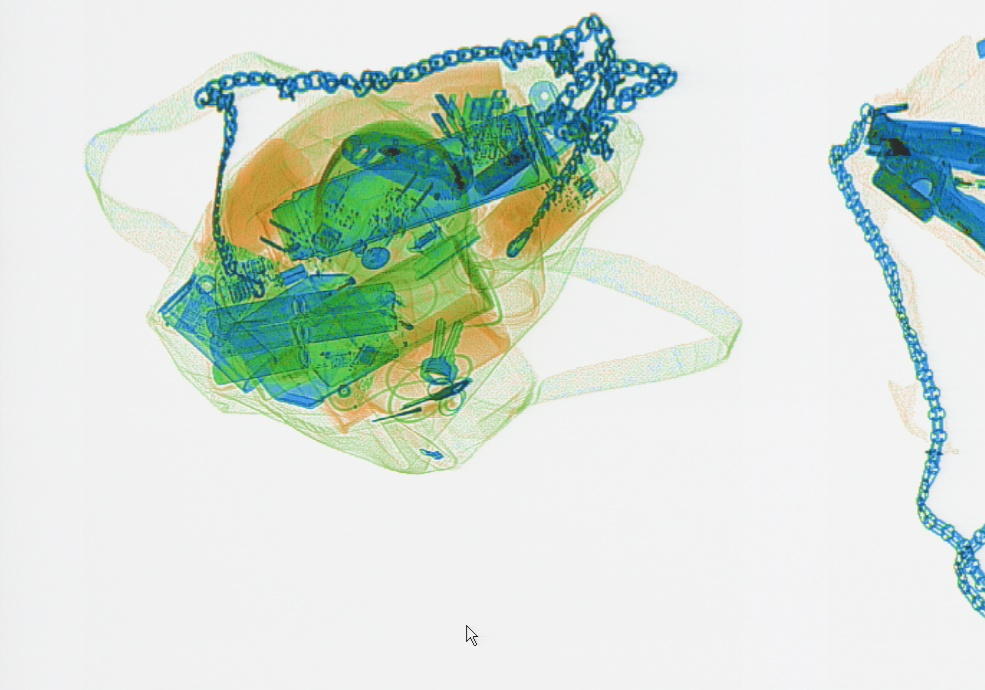knife: (867, 134, 983, 246), (857, 99, 983, 176)
lighter: (290, 238, 406, 317), (365, 289, 462, 357), (891, 153, 983, 199)
powerbank: (200, 276, 416, 393)
